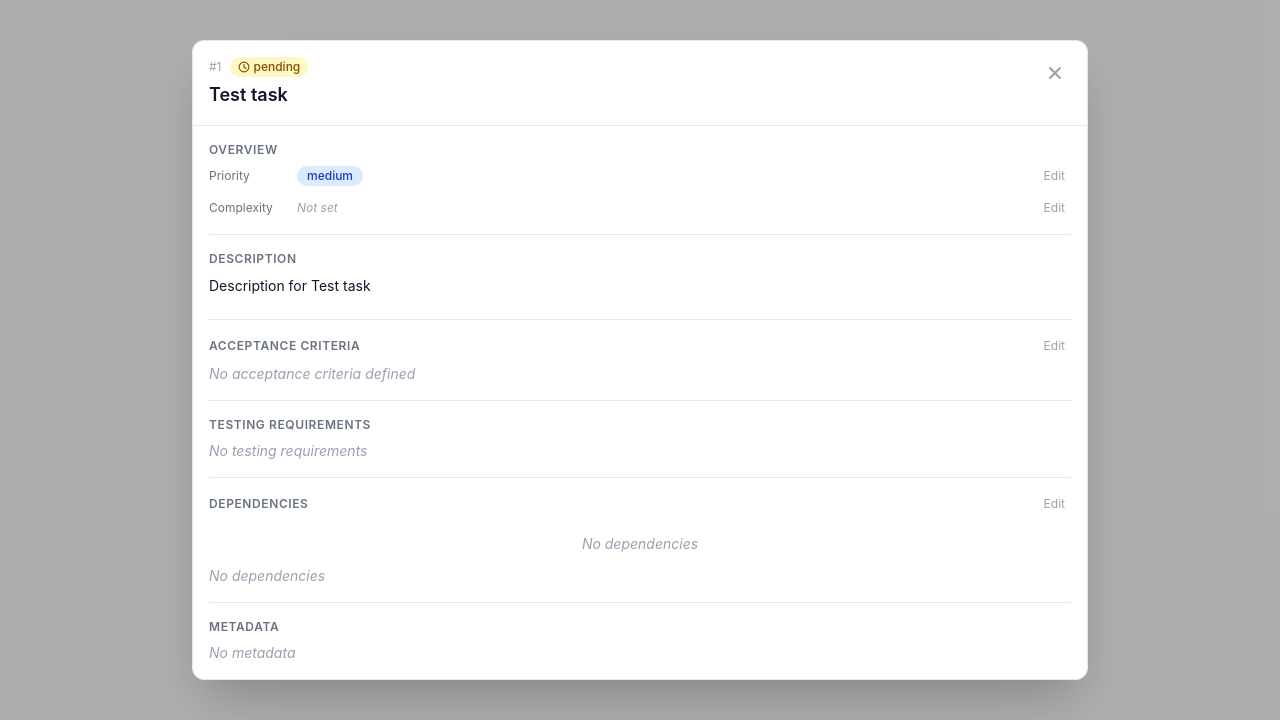
Scenario: TaskDetailPanel inline editing › error handling › shows error on conflict
Click the button with test id "edit-priority-button": point(1054, 176) [1038,166,1071,186]
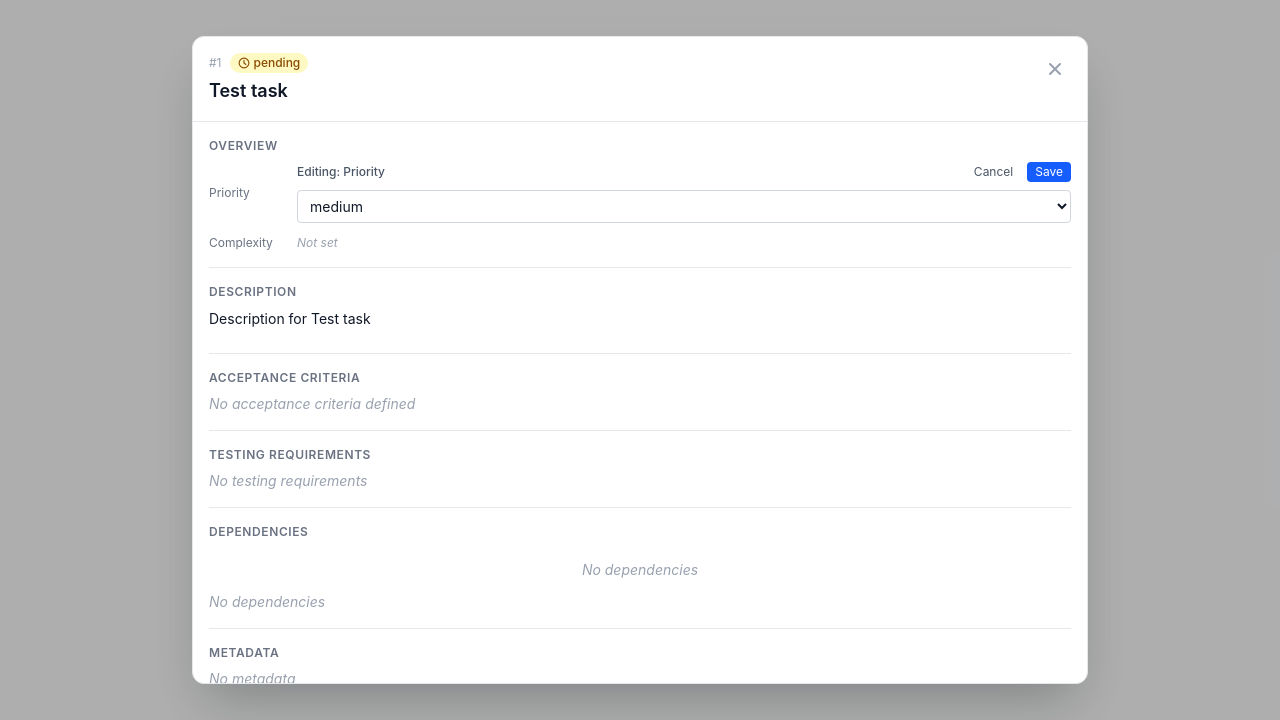
Select "high" in the dropdown with test id "priority-select": point(684, 206) [297,190,1071,223]
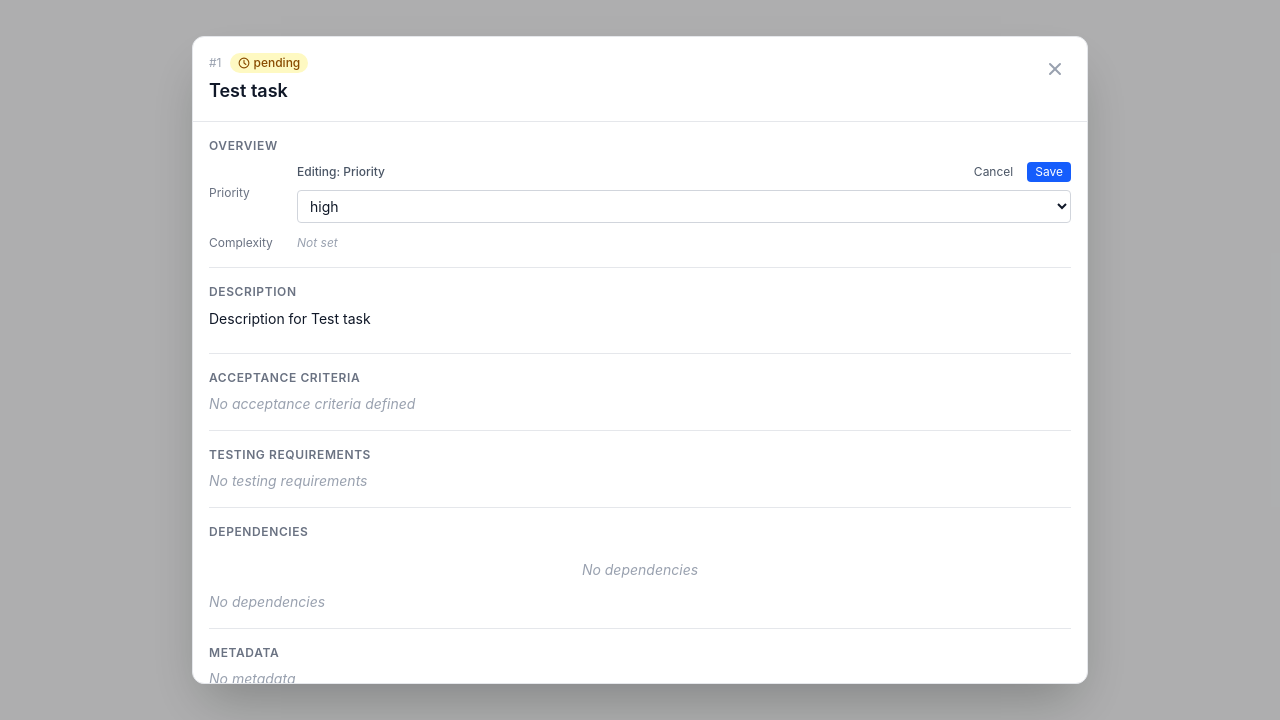
Click the button with test id "field-save-button": point(1049, 172) [1027,162,1071,182]
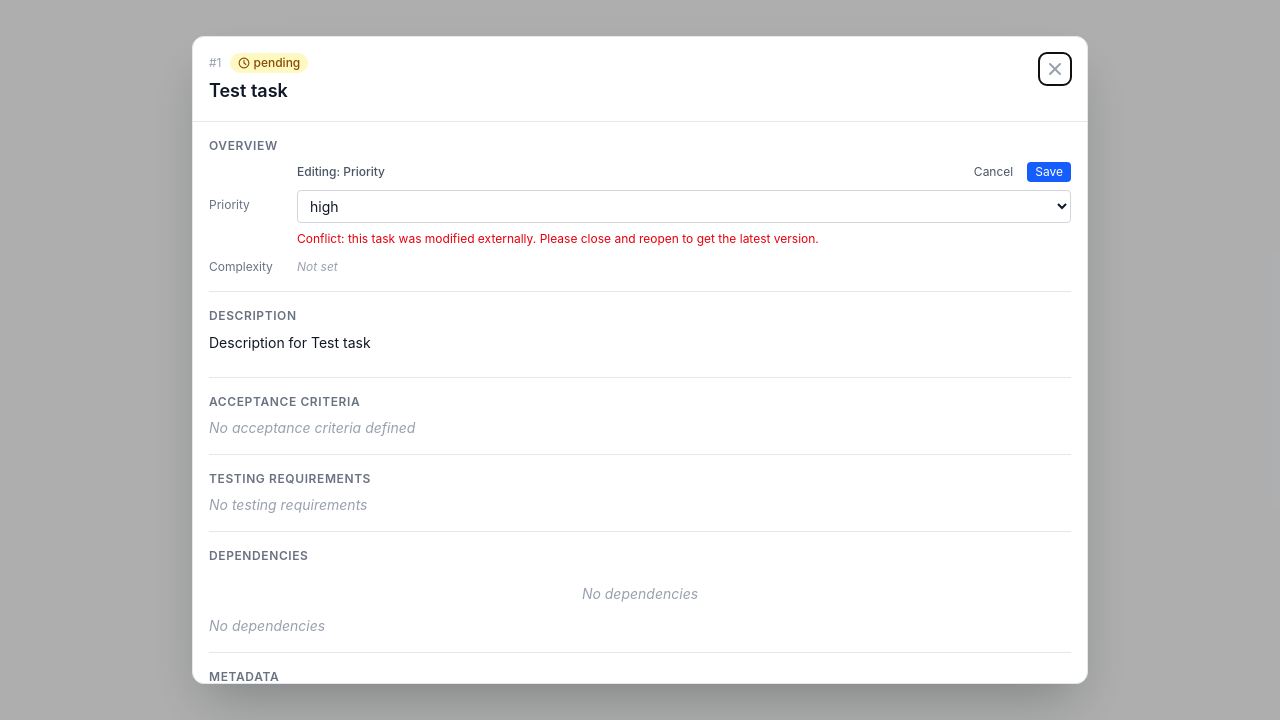
Check: the message with test id "field-error" shows "Conflict", box [297,231,819,246]
